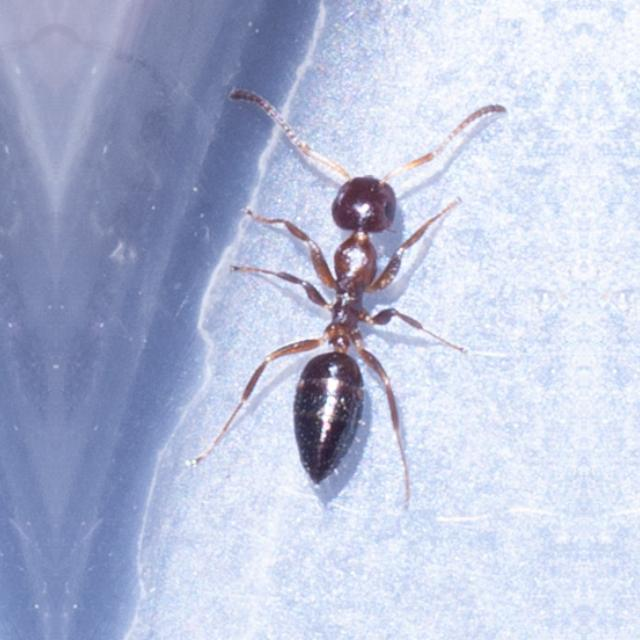Colobopsis: (247, 109, 448, 513)
